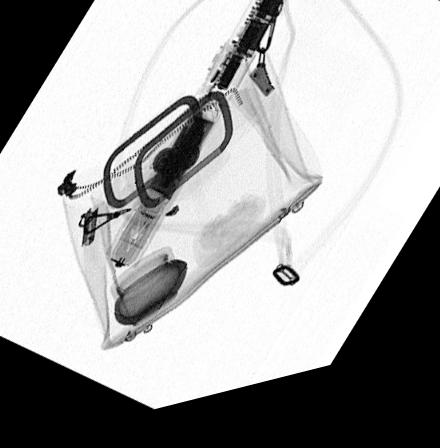Baton: (102, 0, 293, 274)
